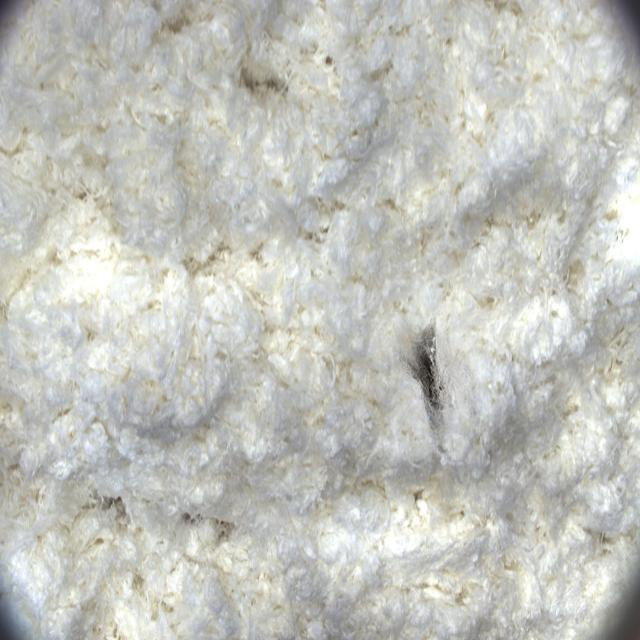dust: (365, 296, 489, 458)
